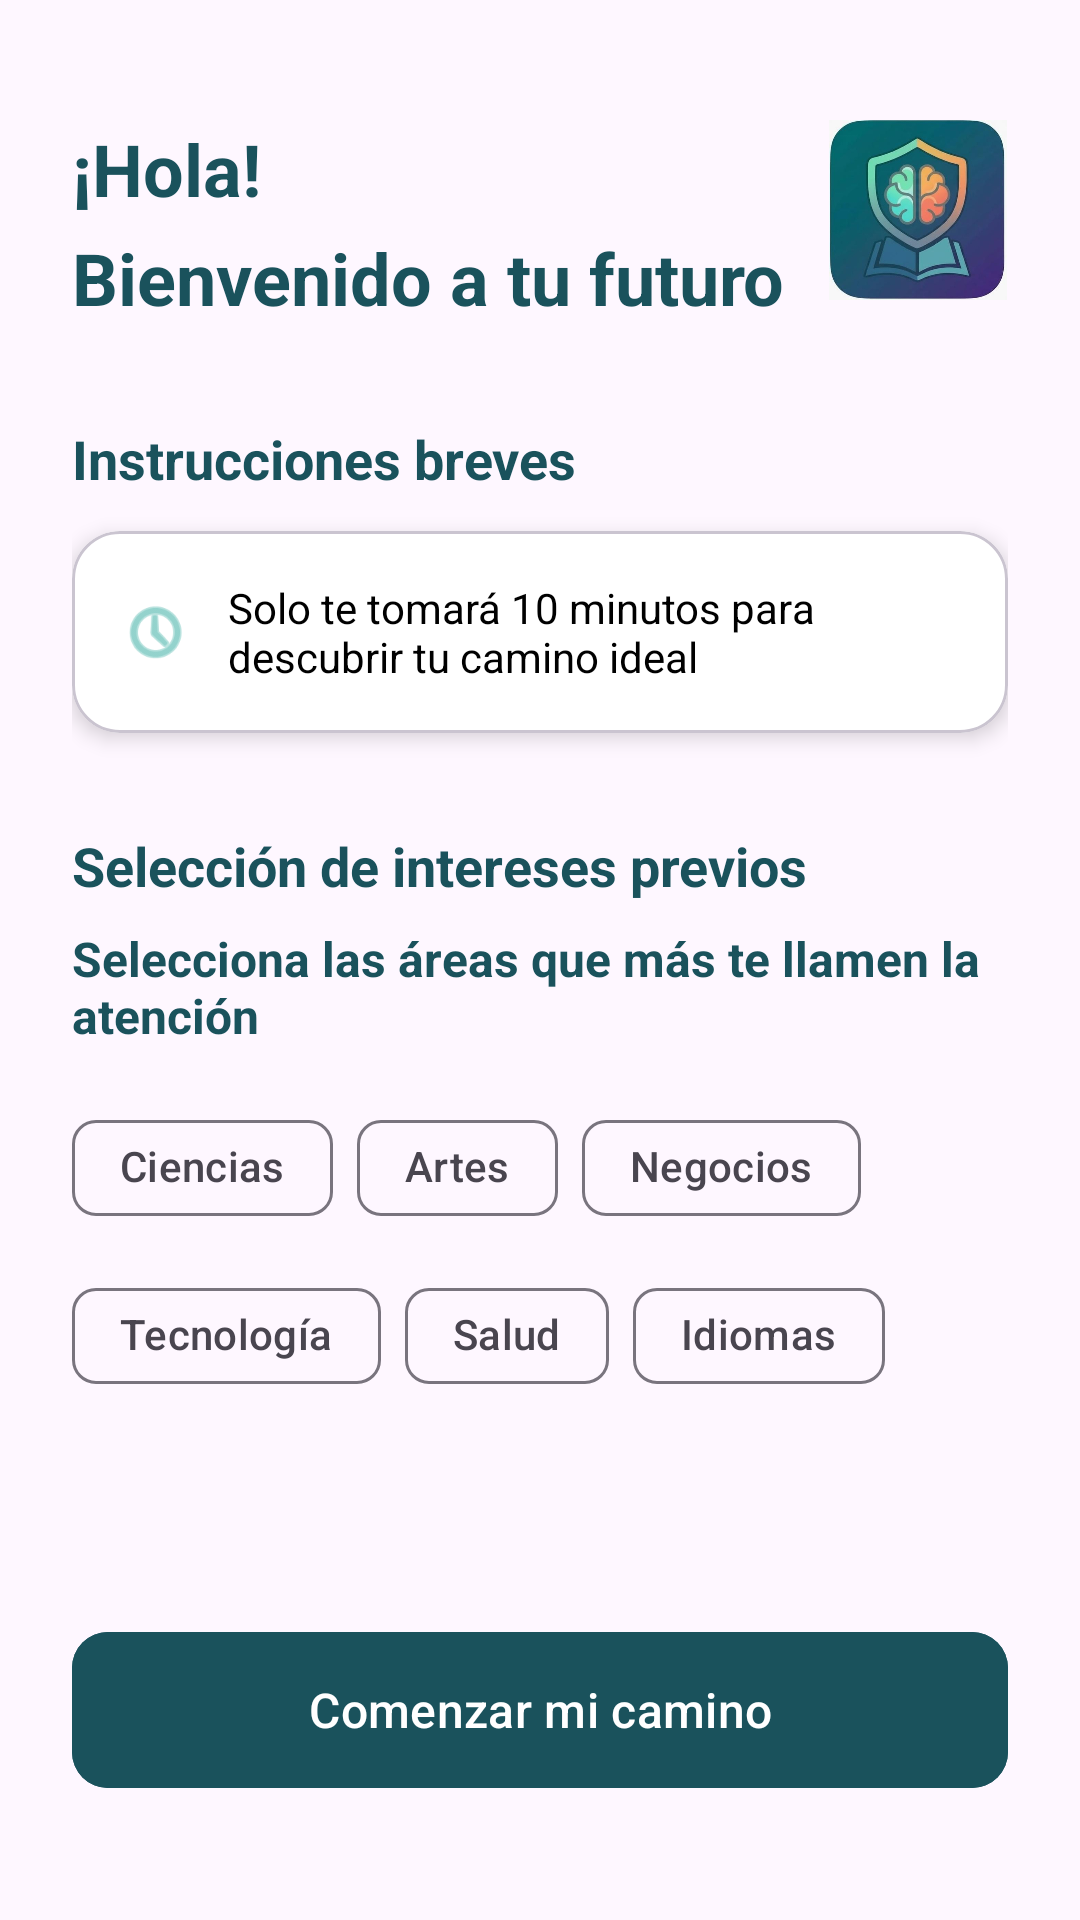

Icon click points for this 1080px x 1920px phone screenshot, format point (x, y):
Icono de reloj: point (156, 632)
